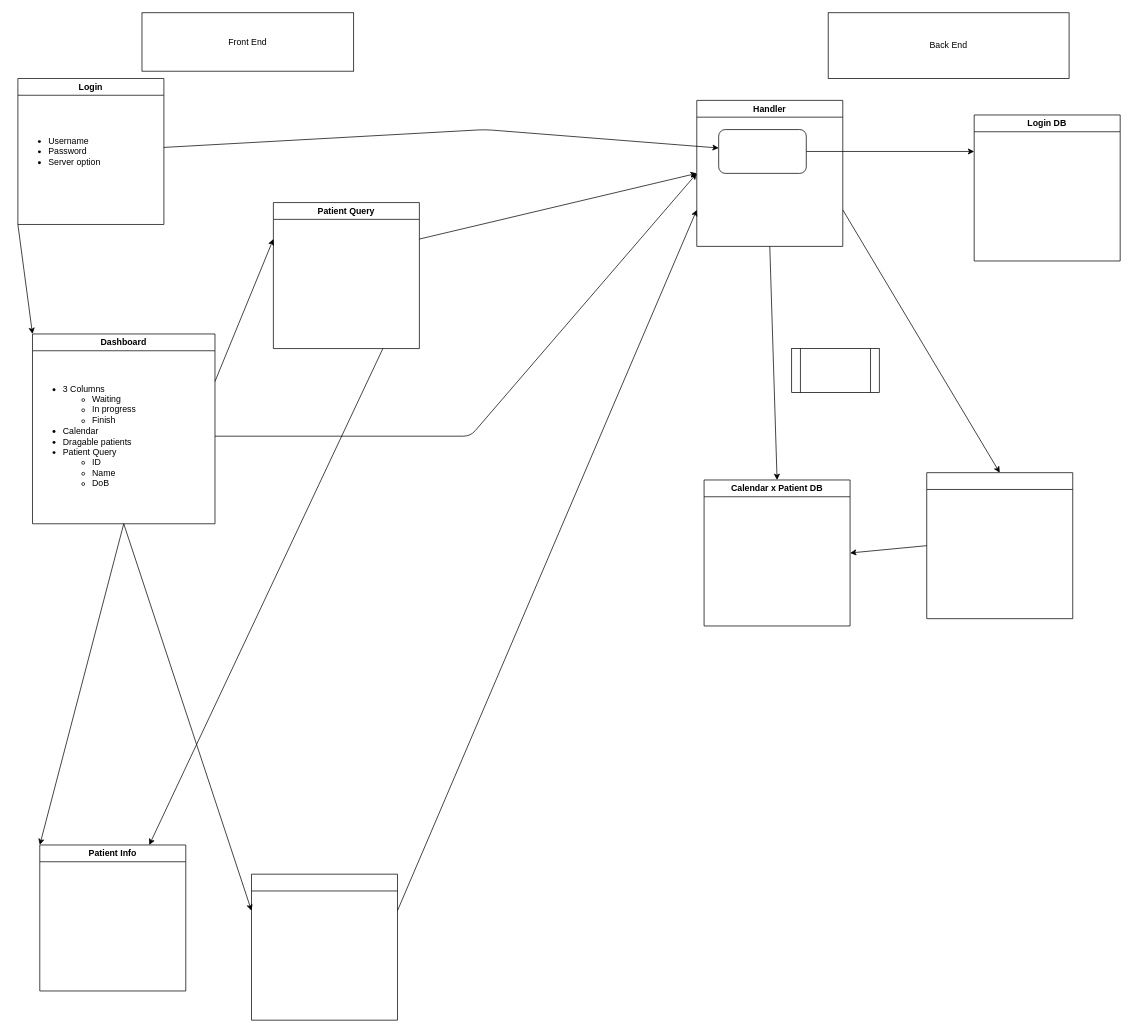
Image size: 1133x1033. Some labels were removed from this diagram. Here are the shapes that lost their labels. From the top down, the centre of each, then its label:
(x=762, y=151): Verification
(x=835, y=370): SELECT Query
(x=999, y=545): Patient DB
(x=324, y=946): Charting
